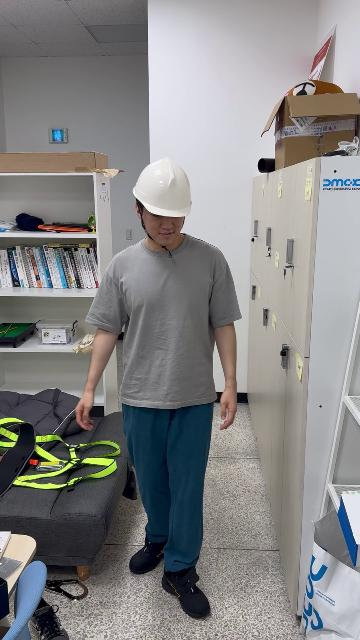helmet_worn: (131, 158, 193, 216)
shoe_not_worn: (30, 599, 71, 639)
shoe_worn: (160, 565, 210, 617), (129, 533, 168, 574)
vest_not_worn: (112, 239, 221, 416)
vest_worn: (1, 415, 123, 488)
